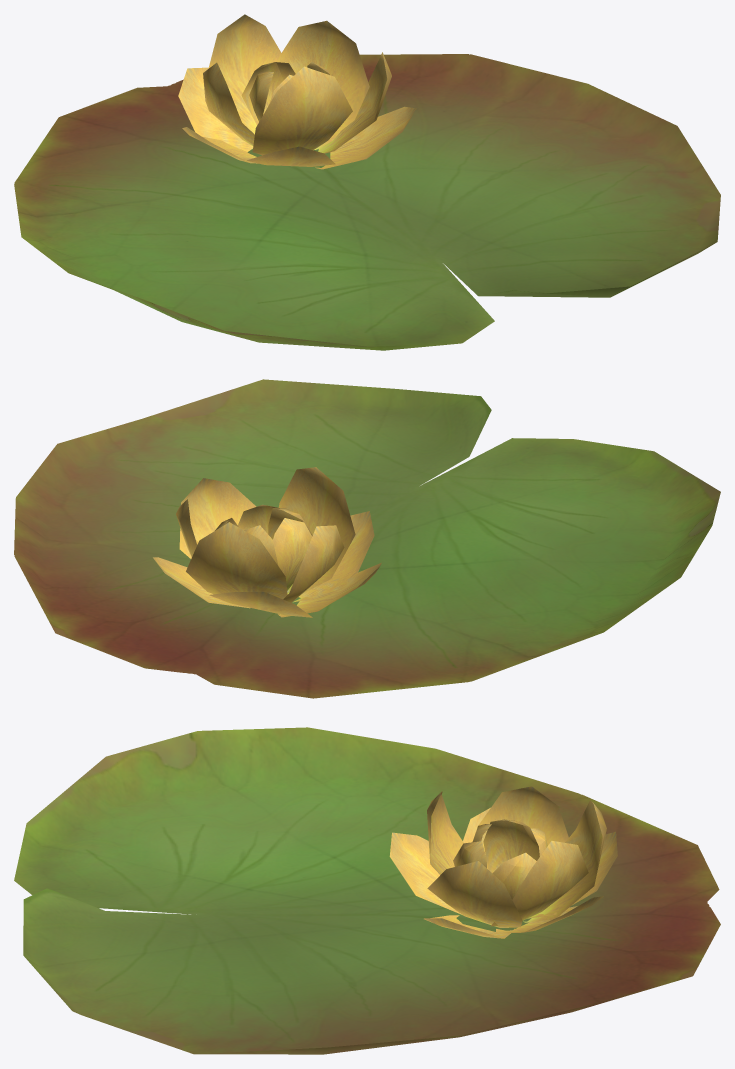
The model's file is lillypad1_6_1_lod0.fbx.
The picture shows the model from 3 angles, top to bottom: view 1: azimuth 30°, elevation 25°; view 2: azimuth 150°, elevation 25°; view 3: azimuth 270°, elevation 25°; orthographic projection. The views are drawn at different scales.
Parts seen in each view (by area): view 1: Mesh Object; view 2: Mesh Object; view 3: Mesh Object.
Part boxes in pixels (<box>): Mesh Object: <box>14,14,720,350</box>; Mesh Object: <box>14,379,720,698</box>; Mesh Object: <box>14,727,720,1054</box>.
Size of the model in its own units: 1.37 by 0.2517 by 1.32.
